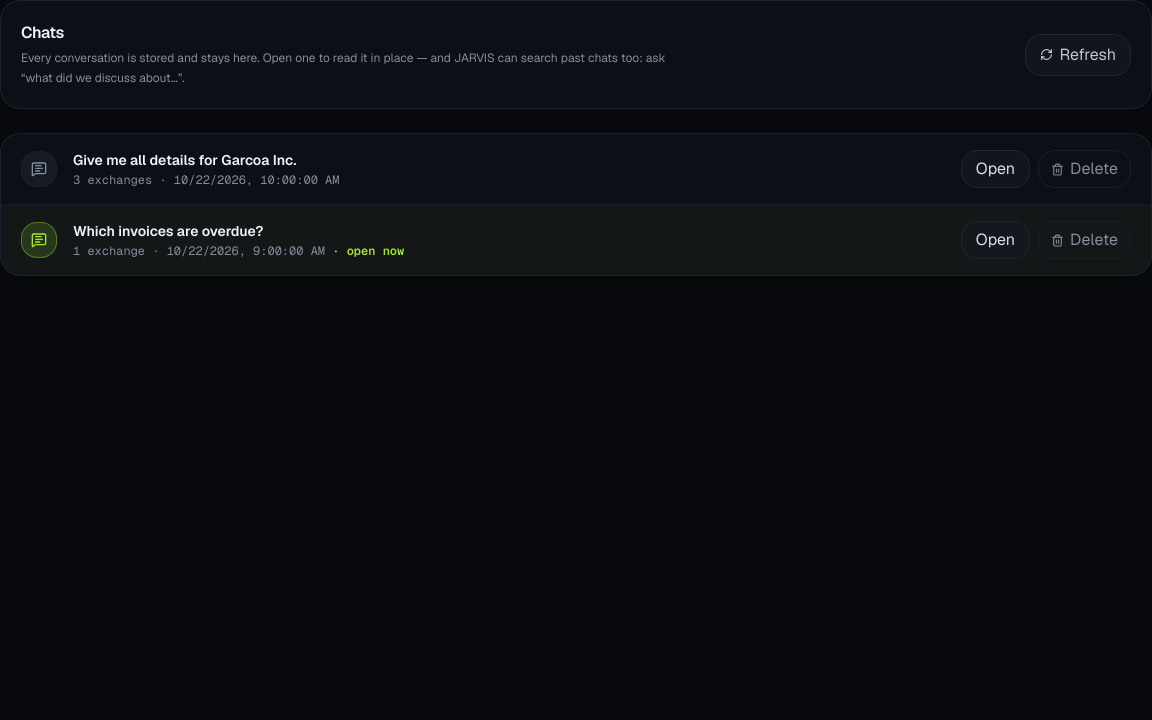
it: ChatHistoryPanel › closes the popup with the Close button and with Escape
This screenshot has width=1152, height=720.
Expected: the text "Give me all details for Garcoa Inc." is shown, [73,151,296,169]
Step 1. Click the button "Open" in the row of "Give me all details for Garcoa Inc." → (995, 169), box [961,150,1030,188]
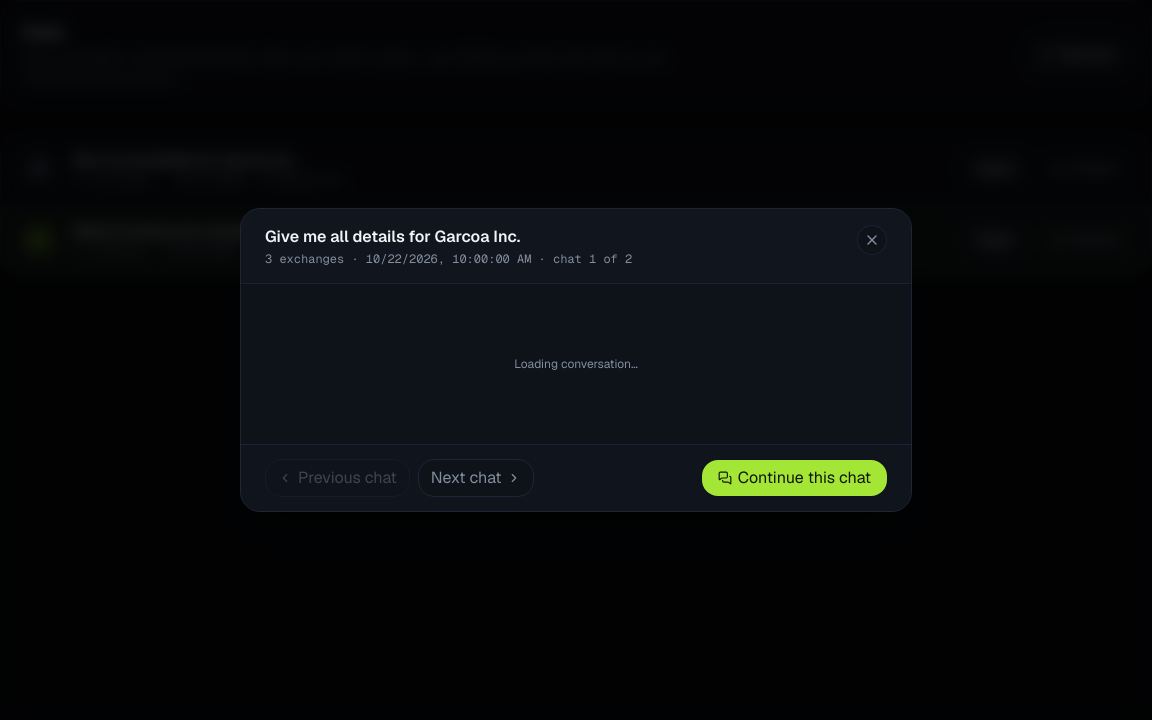
Step 2. Click the button named "Close" → (872, 240), box [857,225,887,255]
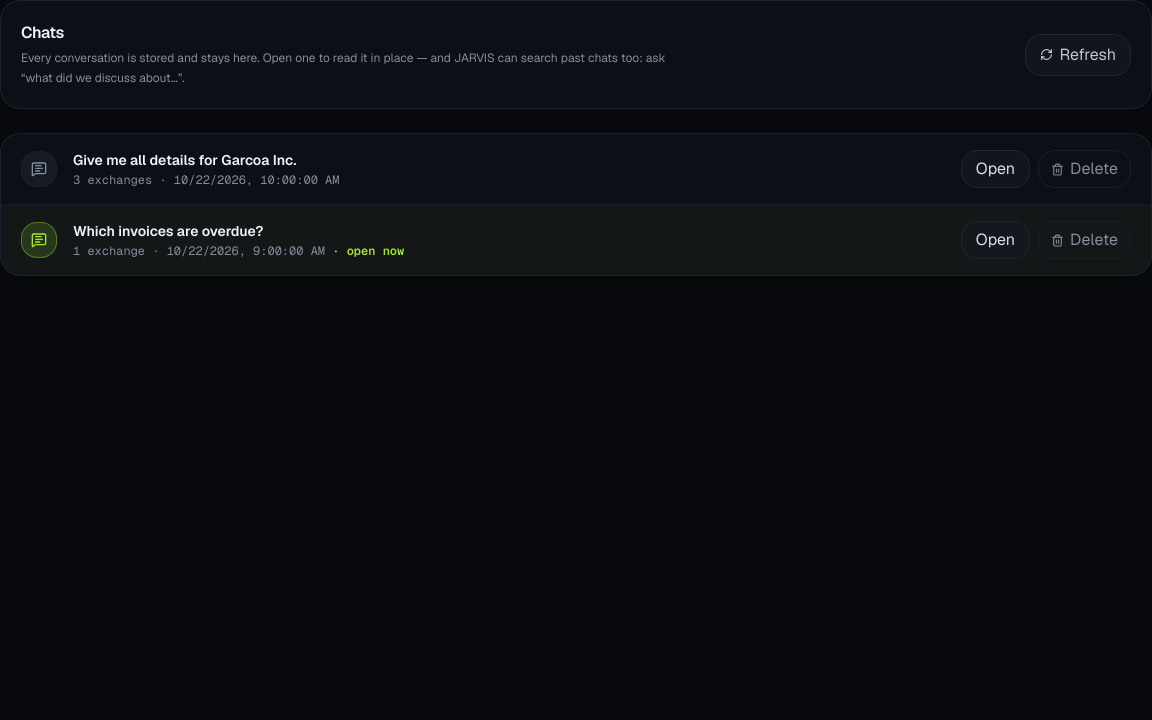
Expected: the dialog is gone
Step 3. Click the button "Open" in the row of "Give me all details for Garcoa Inc." → (995, 169), box [961,150,1030,188]
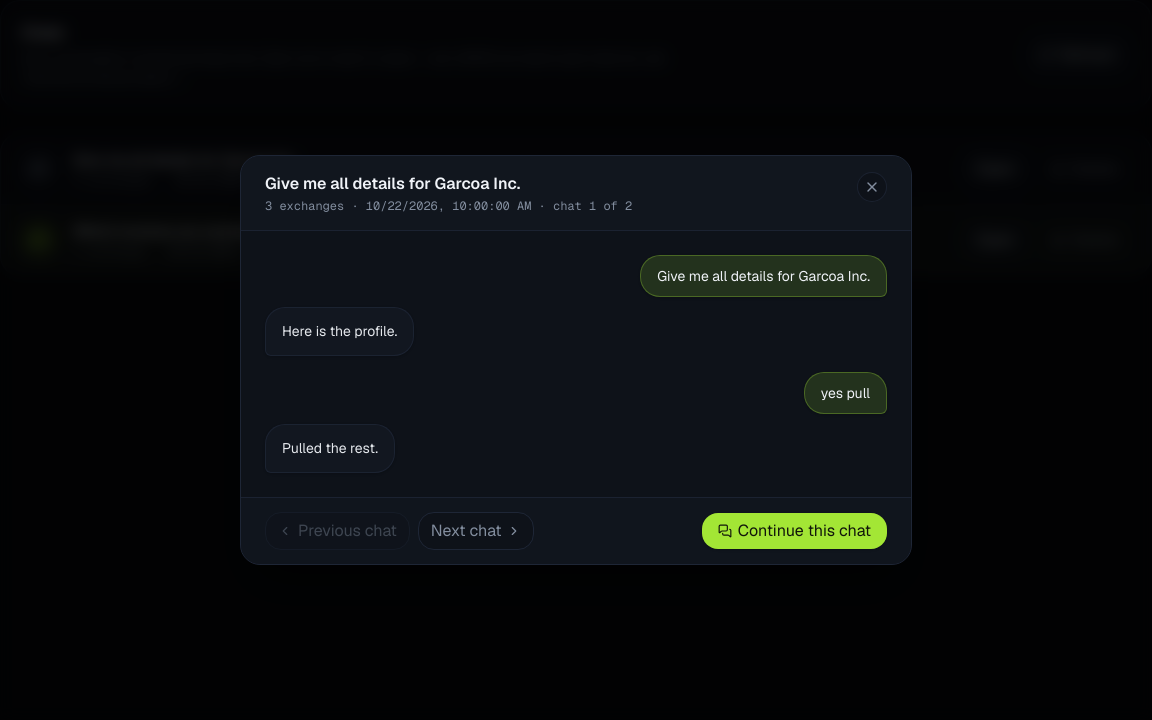
Expected: the dialog is shown, [240,155,912,565]
Step 4. Press Escape
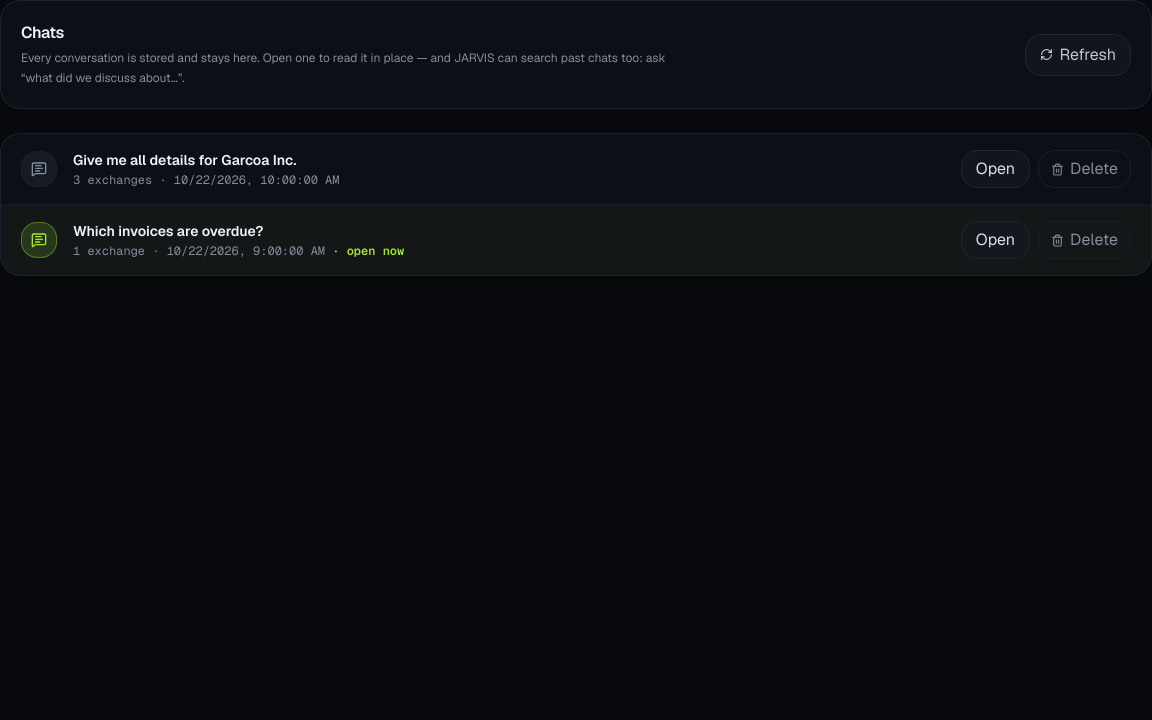
Expected: the dialog is gone
